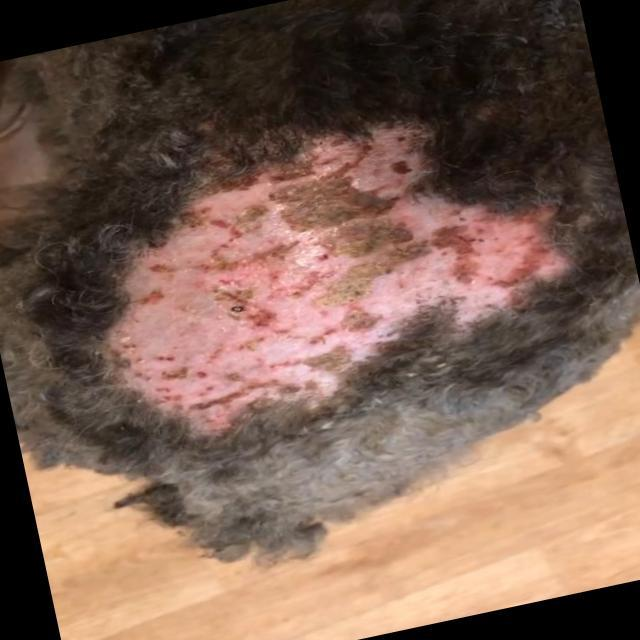allergic dermatitis: (112, 96, 568, 448)
